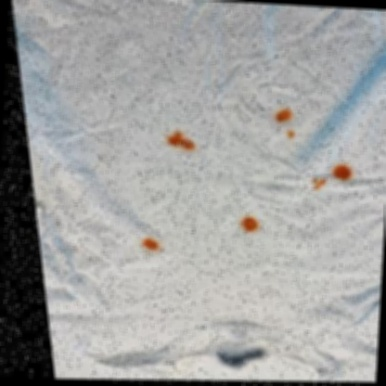kimchi: (163, 126, 196, 158), (237, 210, 261, 236), (329, 158, 351, 186), (273, 106, 293, 128), (308, 172, 326, 191), (140, 238, 157, 253), (285, 131, 297, 141)
